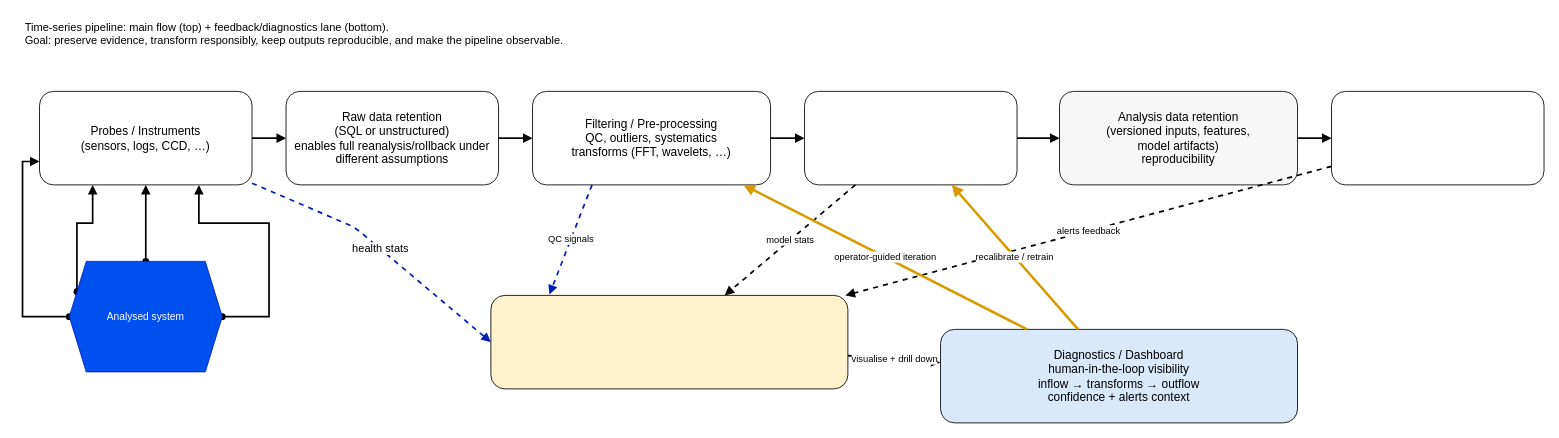
Image size: 1559x438. Some labels were removed from this diagram. The centre of each missing label's shape, as x and y in pixels:
"Analysis Likelihood / MCMC or ML models (CNN/LSTM)" goes at pixel 910 138.
"Exploitation Decision / alert / report actionable signal" goes at pixel 1437 138.
"Pipeline telemetry (metrics + logs) quality, drift, NaNs, duty-cycle" goes at pixel 669 342.
